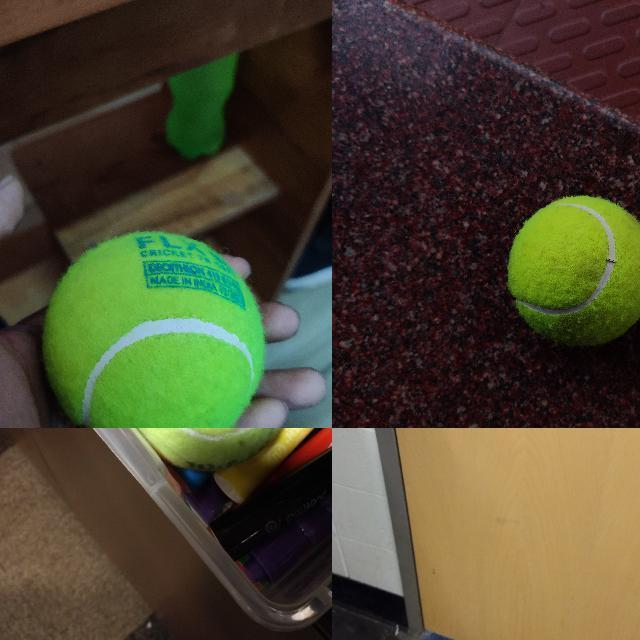tennis-ball: (43, 233, 265, 427), (507, 195, 639, 348), (127, 428, 290, 471)
